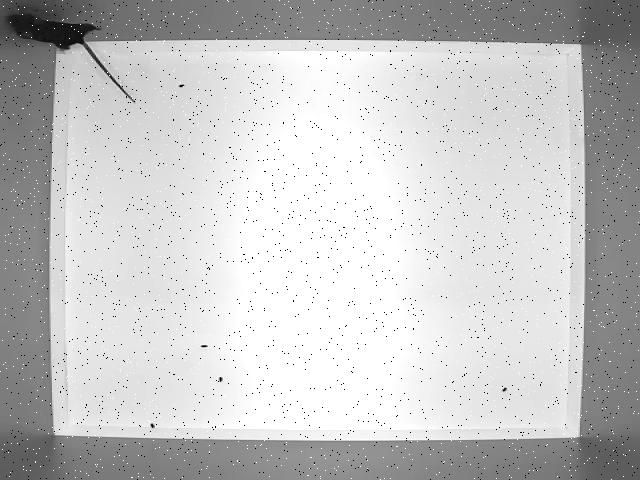Tikus: (5, 9, 142, 109)
